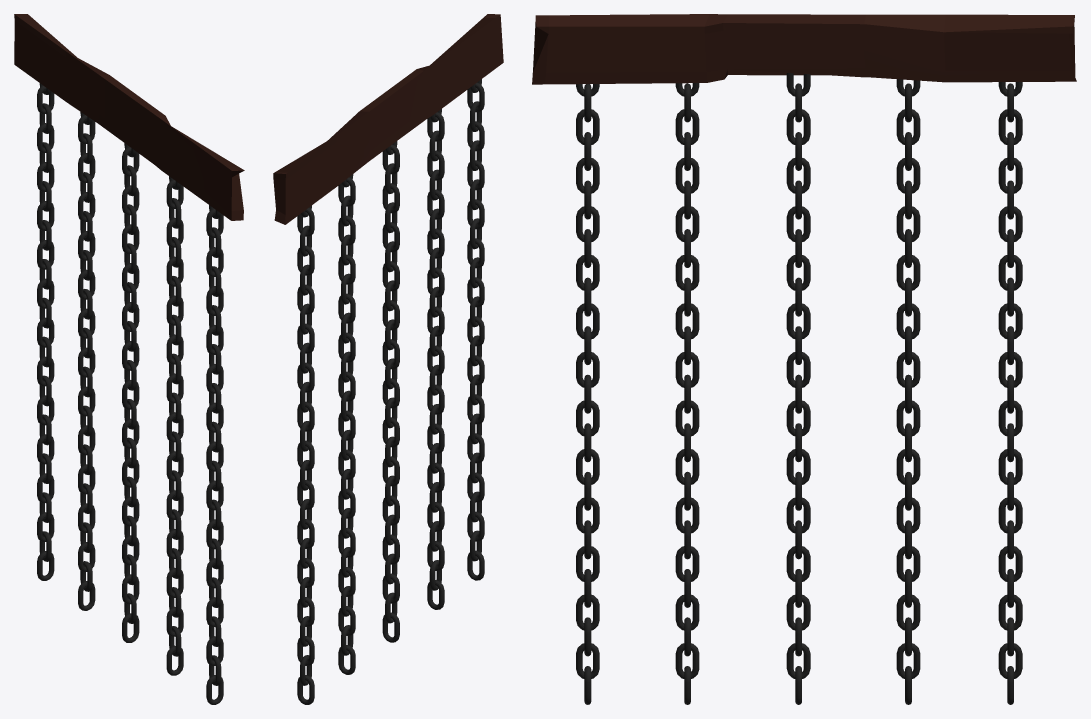
File: Metal chains.fbx
The picture shows the model from 3 angles, left to right: view 1: azimuth 30°, elevation 25°; view 2: azimuth 150°, elevation 25°; view 3: azimuth 270°, elevation 25°; orthographic projection. The views are drawn at different scales.
Visible parts, largest first — view 1: Hanger.009, Chain.002, Chain.001, Chain.003, Chain.004, Chain.014; view 2: Hanger.009, Chain.003, Chain.001, Chain.002, Chain.004, Chain.014; view 3: Hanger.009, Chain.002, Chain.001, Chain.014, Chain.003, Chain.004.
Boxes of the visible parts, x1,y1,x2,y2 form: Hanger.009: (14, 14, 244, 220); Chain.002: (122, 143, 139, 642); Chain.001: (78, 112, 95, 610); Chain.003: (166, 176, 183, 675); Chain.004: (206, 205, 223, 704); Chain.014: (37, 83, 54, 580); Hanger.009: (273, 14, 503, 224); Chain.003: (427, 109, 444, 609); Chain.001: (338, 174, 355, 674); Chain.002: (382, 141, 399, 642); Chain.004: (467, 79, 484, 580); Chain.014: (297, 205, 314, 704); Hanger.009: (532, 14, 1076, 84); Chain.002: (786, 73, 810, 704); Chain.001: (896, 79, 920, 704); Chain.014: (998, 82, 1022, 704); Chain.003: (675, 83, 699, 704); Chain.004: (576, 84, 599, 704).
Size of the model in its own units: 7.37 by 223 by 160.
2 materials, 1 textured.
